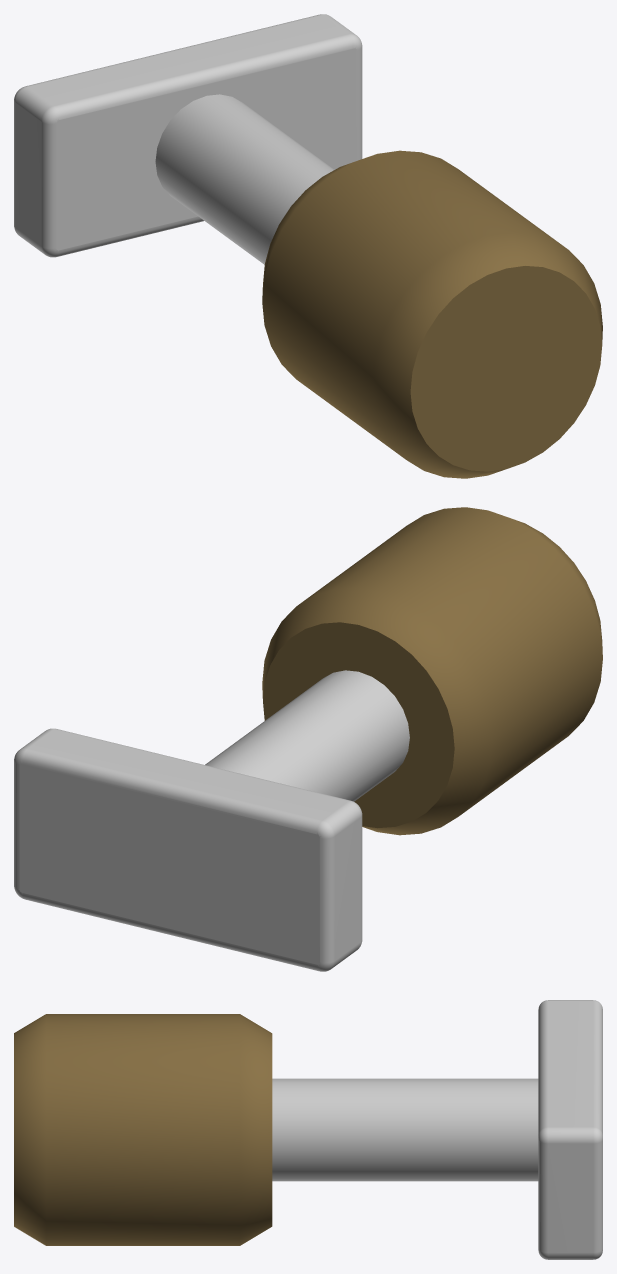
Rendered from ferrolho.obj.
The picture shows the model from 3 angles, top to bottom: view 1: azimuth 30°, elevation 25°; view 2: azimuth 150°, elevation 25°; view 3: azimuth 270°, elevation 25°; orthographic projection. The views are drawn at different scales.
Bounding box in the file's own units: 0.08 × 0.0576 × 0.146.
